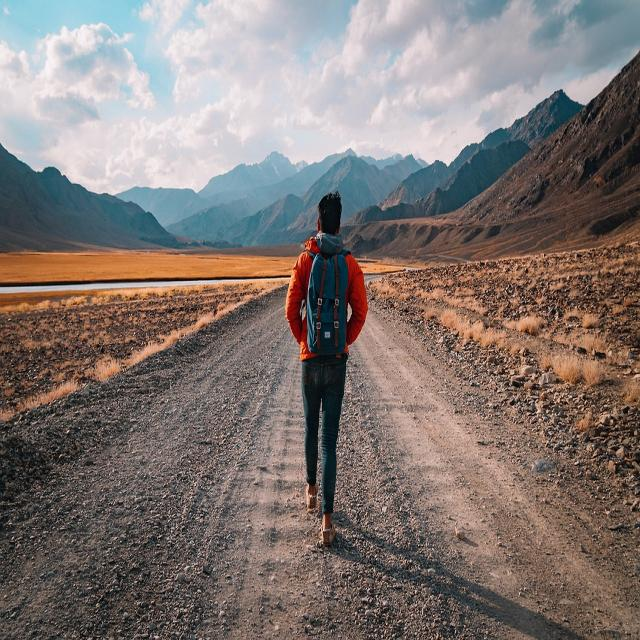Person: (286, 191, 368, 549)
